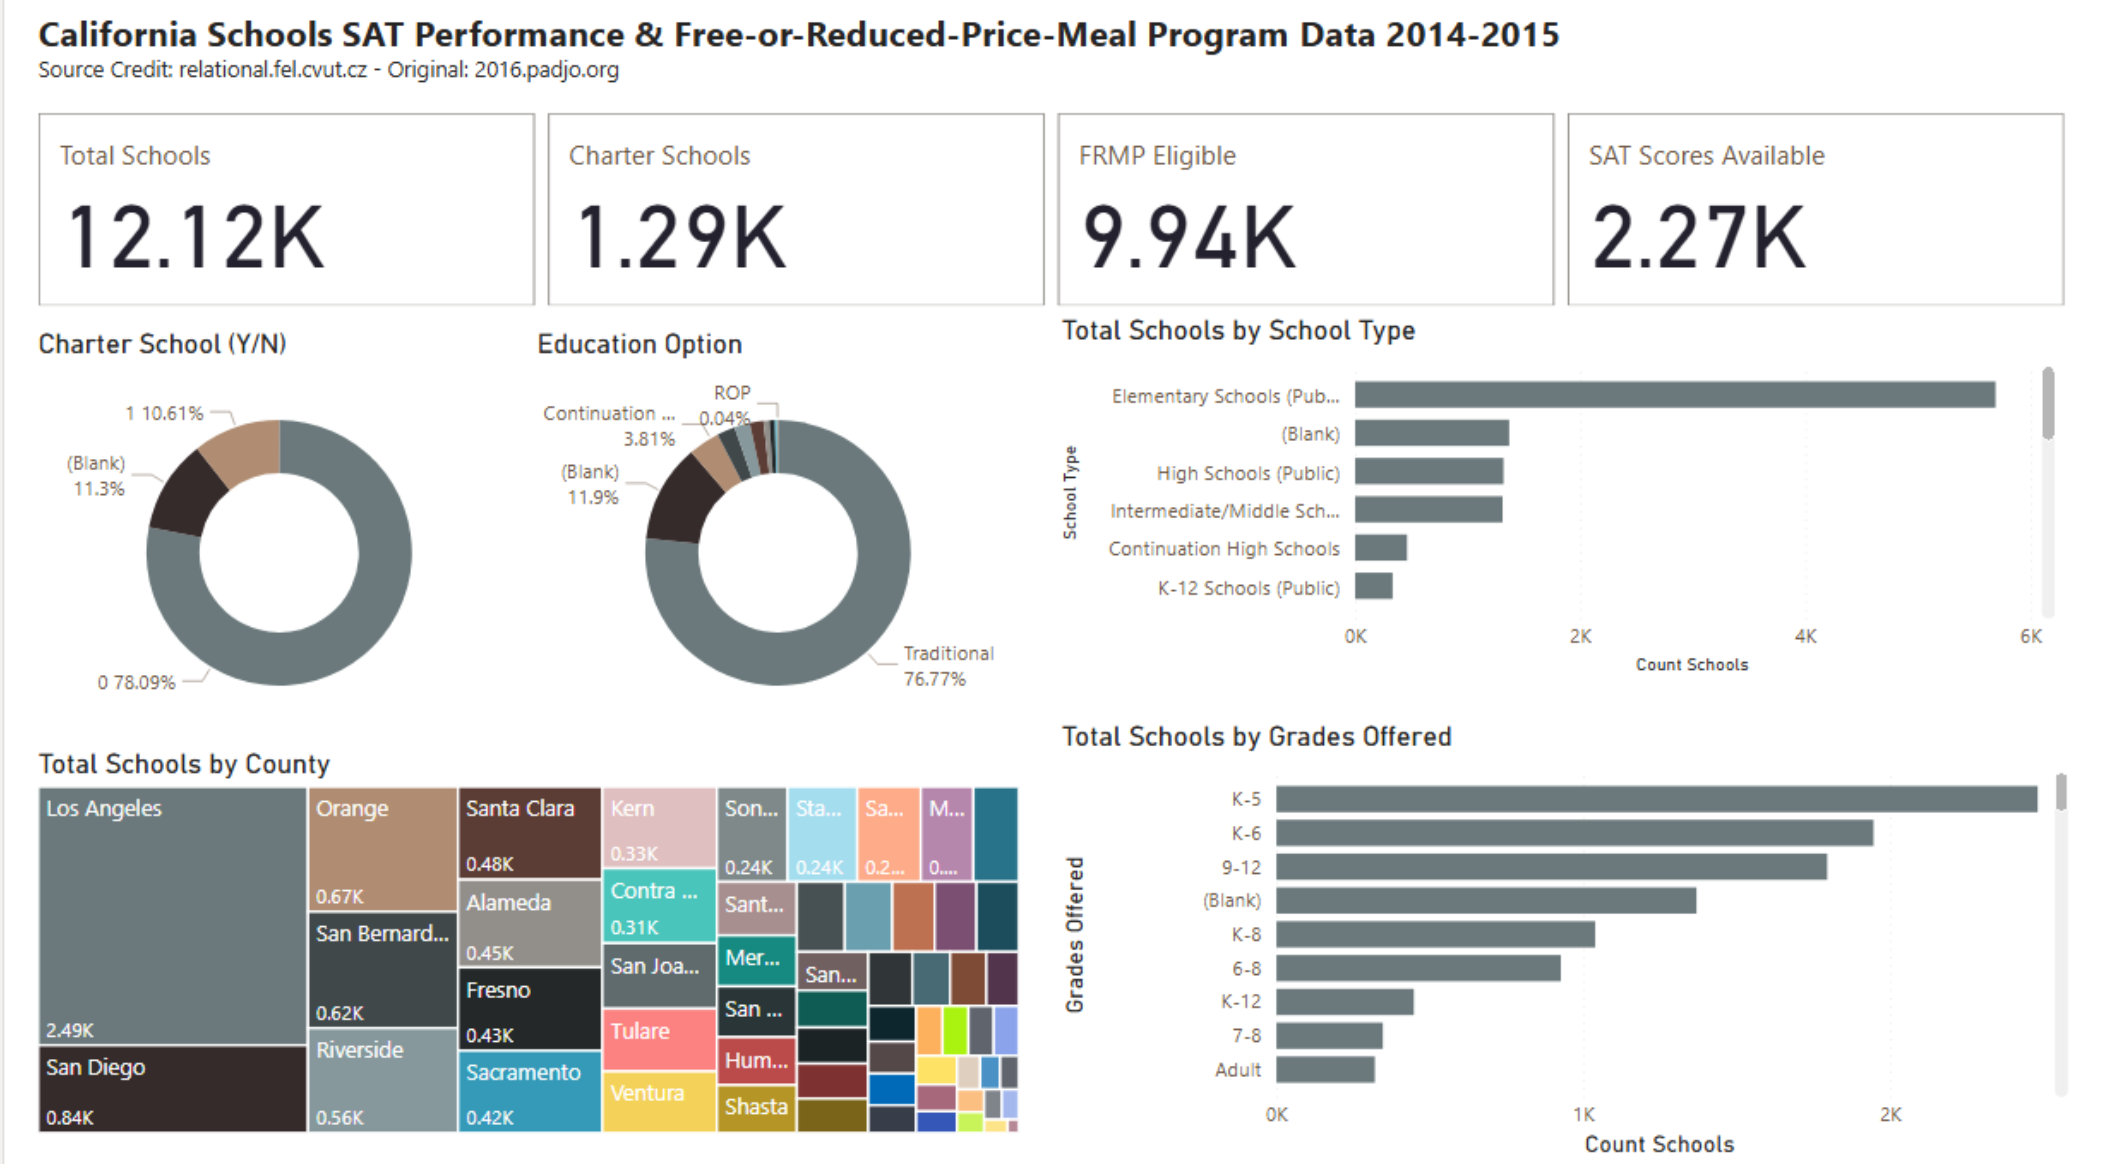

The dashboard page shown, as its layout file describes it:
{"tool":"powerbi","page":{"name":"Schools Overview","canvas":[1280,720],"ordinal":0},"visuals":[{"type":"textbox","box":[16,8,976,64],"z":0},{"type":"cardVisual","fields":{"Data":["Summary Measures.Count Schools","Summary Measures.Count Charter","Summary Measures.FRMP Eligible","Summary Measures.Count SAT Scores Available"]},"box":[16,72,1248,128],"z":1},{"type":"barChart","title":"Total Schools by School Type","fields":{"Category":["Schools.School Type"],"Y":["Summary Measures.Count Schools"]},"box":[640,200,616,224],"z":2},{"type":"treemap","title":"Total Schools by County","fields":{"Values":["Summary Measures.Count Schools"],"Group":["Schools.County-City.County","Schools.County-City.City"]},"box":[16,464,608,256],"z":3},{"type":"donutChart","title":"Charter School (Y/N)","fields":{"Category":["Schools.Charter School (Y/N)"],"Y":["Summary Measures.Count Schools"]},"box":[16,208,304,256],"z":4},{"type":"donutChart","title":"Education Option","fields":{"Y":["Summary Measures.Count Schools"],"Category":["Schools.Education Option Name"]},"box":[320,208,304,256],"z":5},{"type":"barChart","title":"Total Schools by Grades Offered","fields":{"Y":["Summary Measures.Count Schools"],"Category":["Schools.Grades Offered"]},"box":[640,448,624,272],"z":6}]}

Visuals, with their boxes in screenshot pixels (x1, y1, x2, y2), scaled from the page's 1280x720 canvas onto the 2102x1164 screenshot:
textbox: x1=26, y1=13, x2=1629, y2=116
cardVisual - Summary Measures.Count Schools x Summary Measures.Count Charter: x1=26, y1=116, x2=2076, y2=323
"Total Schools by School Type" barChart: x1=1051, y1=323, x2=2063, y2=685
"Total Schools by County" treemap: x1=26, y1=750, x2=1025, y2=1163
"Charter School (Y/N)" donutChart: x1=26, y1=336, x2=526, y2=750
"Education Option" donutChart: x1=526, y1=336, x2=1025, y2=750
"Total Schools by Grades Offered" barChart: x1=1051, y1=724, x2=2076, y2=1163
